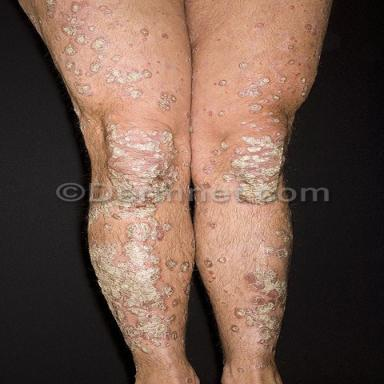Psoriasis: (88, 202, 178, 355), (105, 124, 179, 186), (234, 269, 287, 355), (222, 136, 285, 196), (106, 67, 152, 84), (62, 3, 85, 36), (237, 77, 270, 97), (261, 246, 289, 262), (157, 92, 177, 110), (91, 37, 110, 52), (65, 60, 82, 76), (85, 61, 102, 77), (74, 82, 92, 97), (123, 86, 142, 100), (275, 229, 291, 243), (45, 0, 56, 17), (300, 77, 309, 97), (98, 6, 113, 17), (305, 24, 318, 36), (64, 44, 77, 55), (75, 35, 89, 45), (250, 123, 263, 132), (167, 259, 177, 269), (180, 262, 190, 272), (255, 363, 267, 370), (183, 283, 190, 295), (250, 104, 262, 111), (204, 166, 213, 174), (211, 149, 221, 156), (205, 260, 213, 268), (231, 325, 240, 332), (218, 79, 227, 86), (240, 61, 249, 68), (111, 55, 121, 61), (98, 53, 106, 60), (221, 141, 228, 149), (141, 29, 149, 36), (88, 25, 97, 31), (271, 118, 280, 124), (255, 23, 264, 29), (210, 157, 217, 164), (280, 77, 287, 84), (237, 367, 245, 373), (218, 257, 226, 263), (272, 95, 280, 101), (172, 299, 178, 306), (183, 148, 190, 154), (218, 110, 225, 116), (288, 59, 295, 65), (209, 222, 216, 228), (189, 125, 194, 133), (162, 33, 169, 38), (268, 111, 275, 115), (259, 100, 268, 103), (184, 162, 189, 167), (288, 45, 294, 49), (278, 90, 282, 94)
